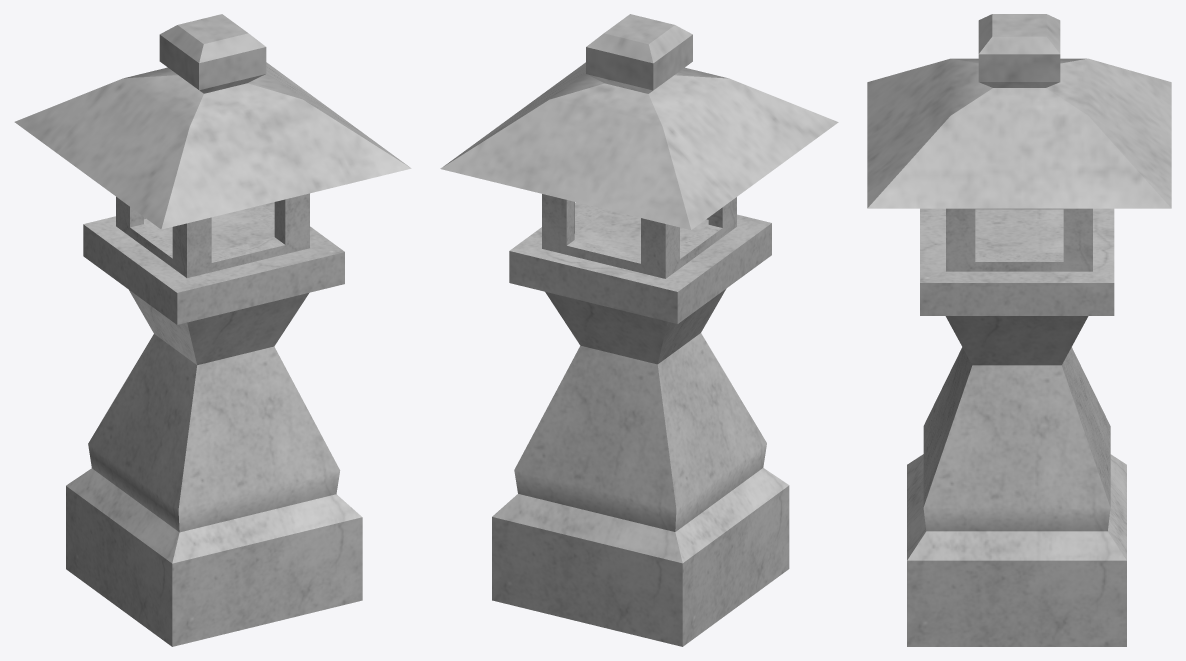
File: lamp.fbx
3 renders of one model, left to right at view 1: azimuth 30°, elevation 25°; view 2: azimuth 150°, elevation 25°; view 3: azimuth 270°, elevation 25°, orthographic. The views are drawn at different scales.
Parts seen in each view (by area): view 1: polySurface207; view 2: polySurface207; view 3: polySurface207.
Boxes of the visible parts, x1=… form: polySurface207: x1=14, y1=14, x2=411, y2=646; polySurface207: x1=440, y1=14, x2=838, y2=646; polySurface207: x1=867, y1=14, x2=1171, y2=646.
Size of the model in its own units: 1.71 by 3.62 by 1.74.
Materials: 1 (1 with a texture image).
